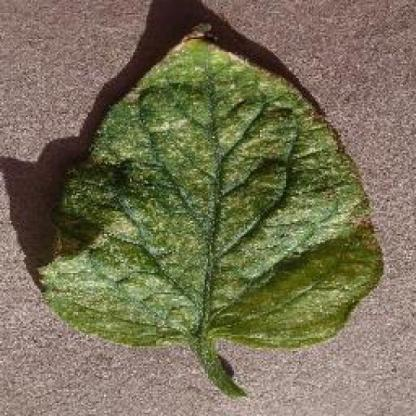Tomato_Spider_Mites: (41, 22, 385, 347)
